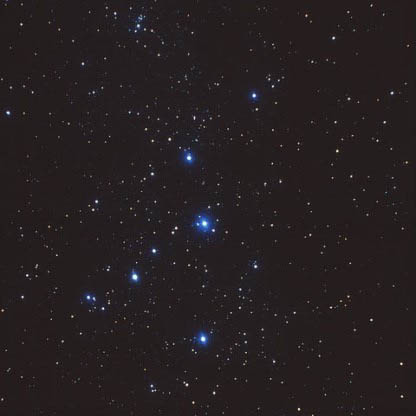Cassiopeia: (124, 246, 161, 287), (240, 84, 275, 106), (191, 213, 224, 235), (190, 328, 214, 353), (177, 148, 201, 171)
